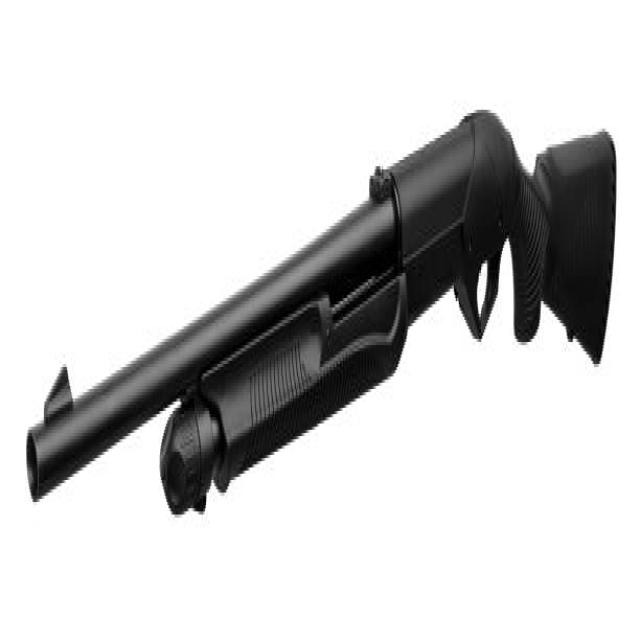rifle: (21, 82, 623, 570)
